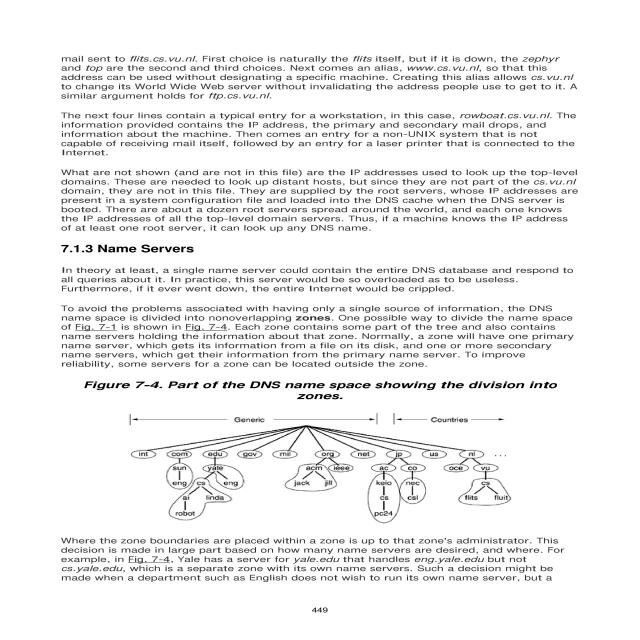diagram: (34, 373, 601, 591)
